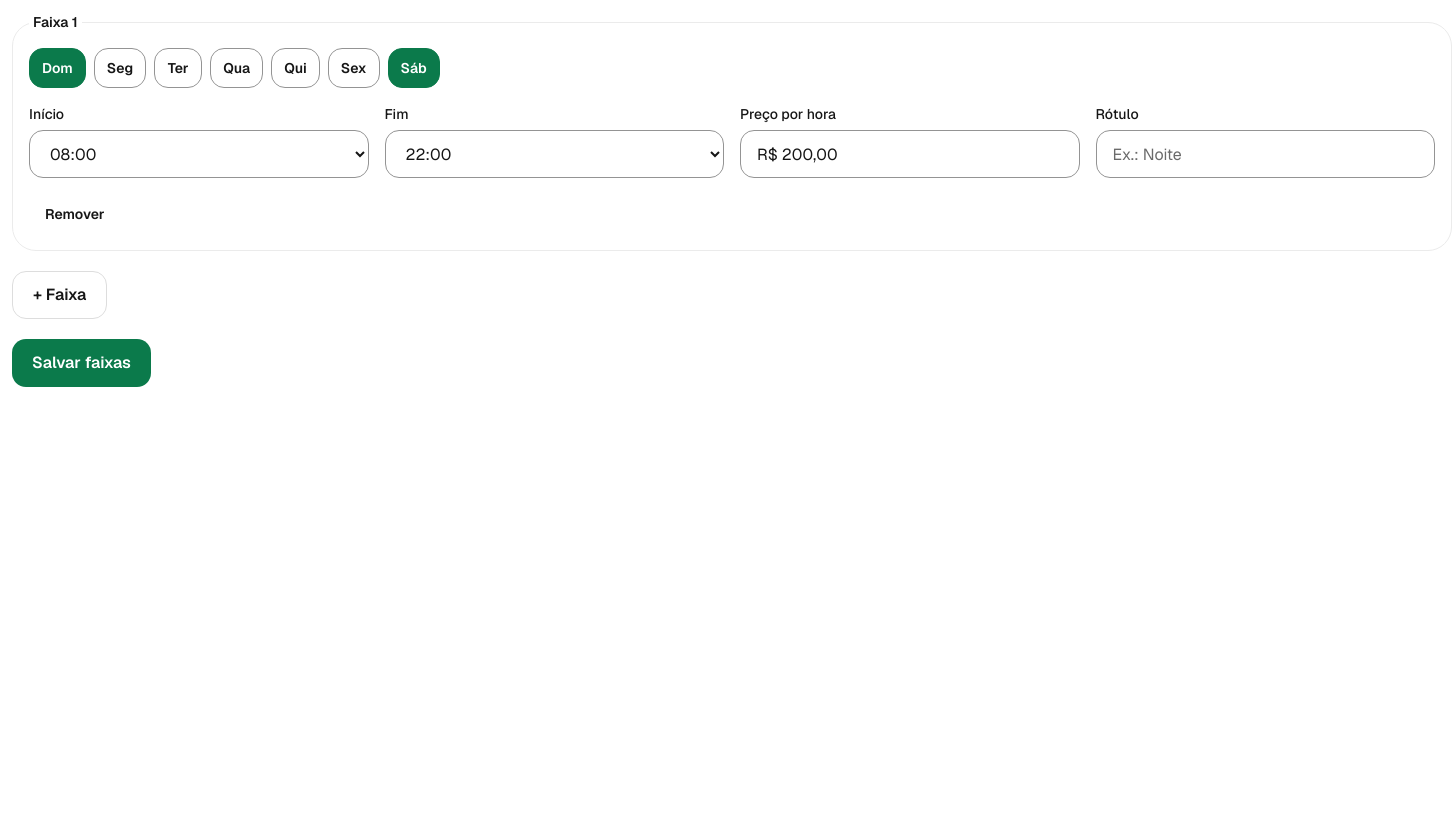
Test: PriceRulesEditor › adds and removes rows
Click the button "+ Faixa". click: (60, 295)
box: [12,271,107,319]
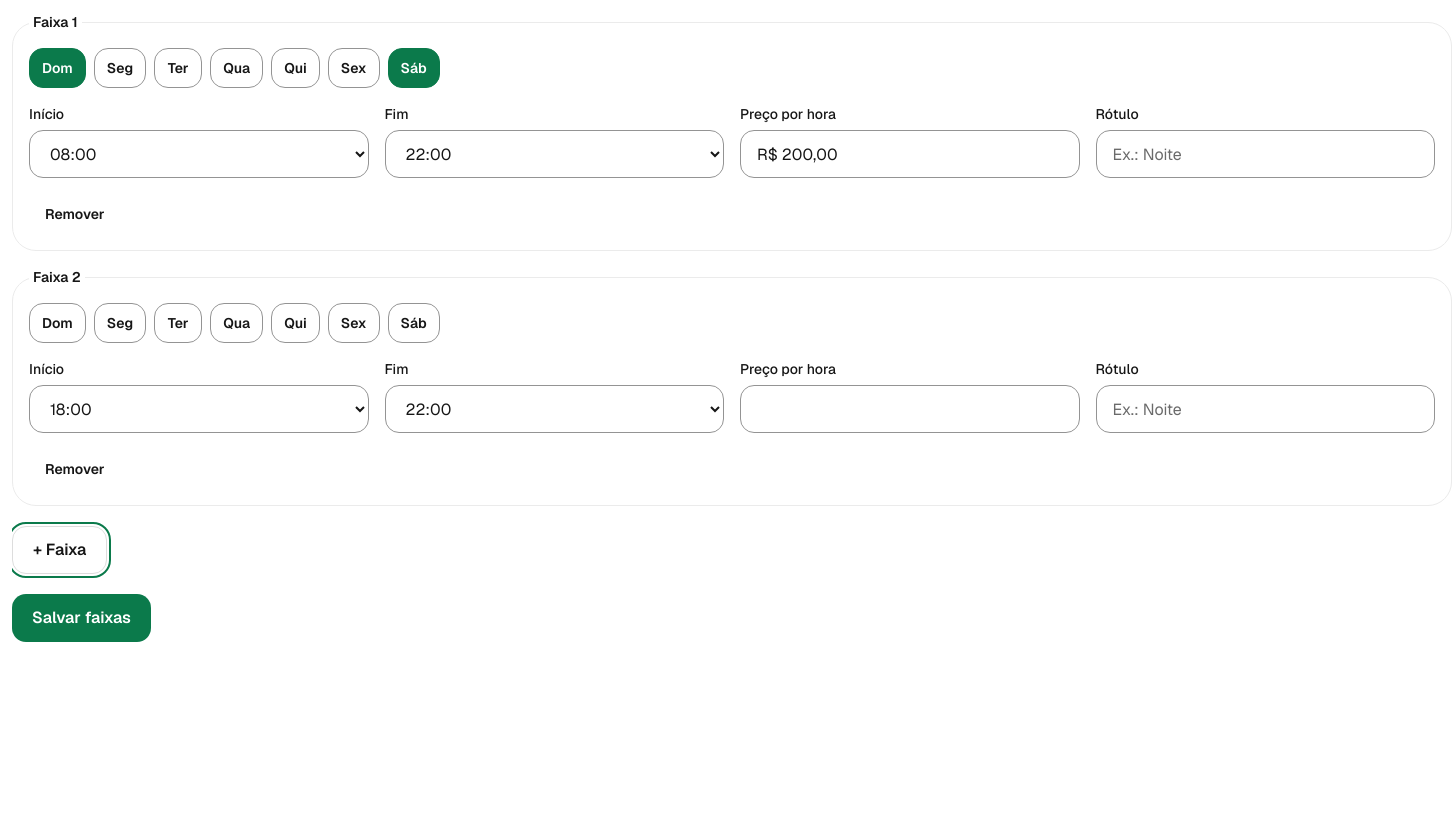
Check: the element "Faixa 2" is shown, box [12,267,1451,506]
Click the button with aria-label "Remover faixa 1". click: (75, 214)
box: [29,194,121,234]
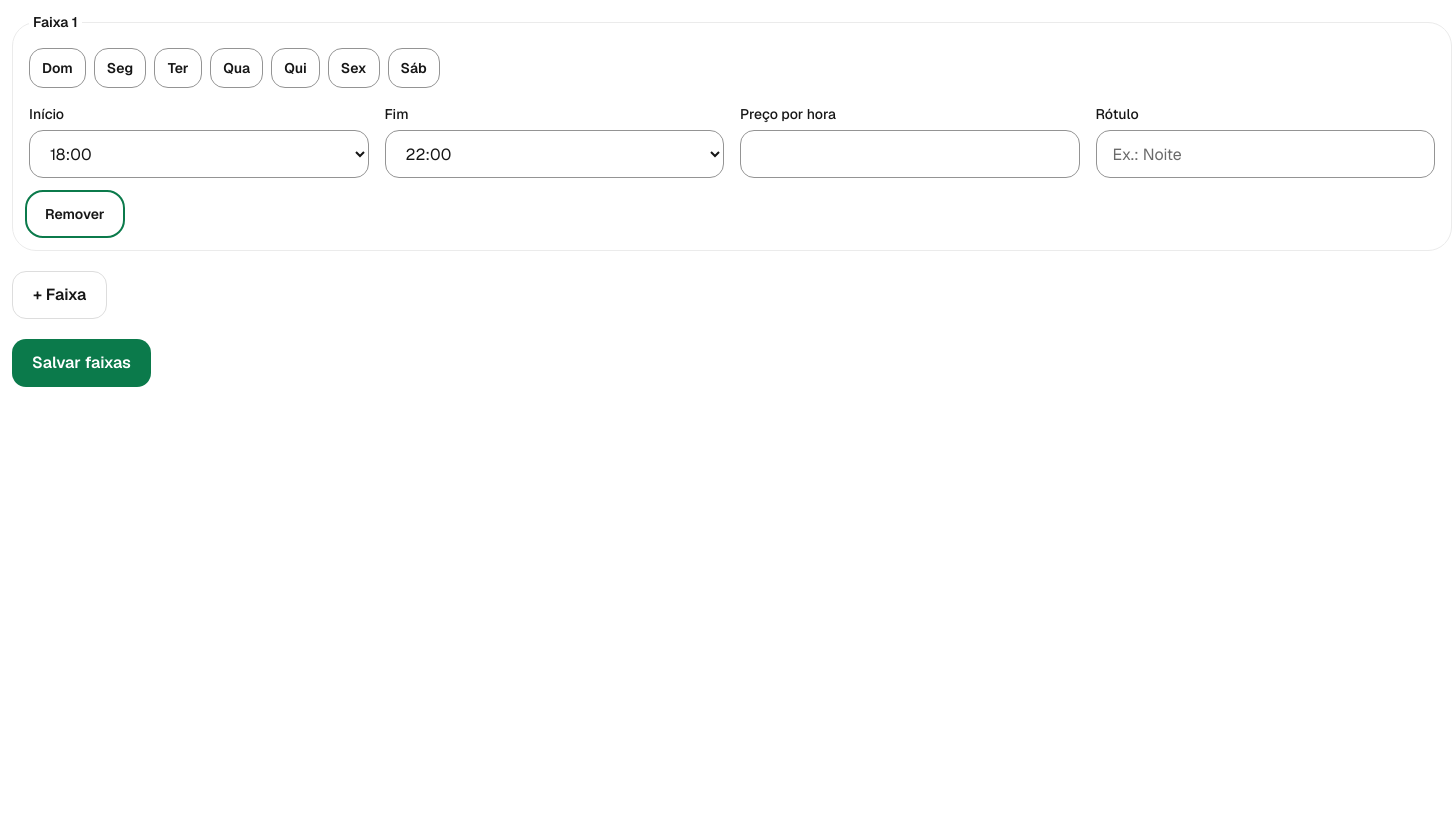
Check: the text "Faixa 2" is gone
